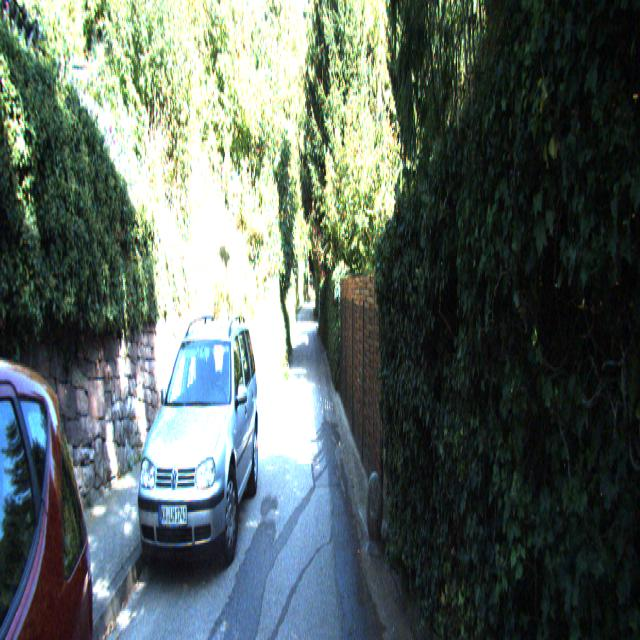Car: (134, 309, 262, 602), (0, 326, 117, 638)
